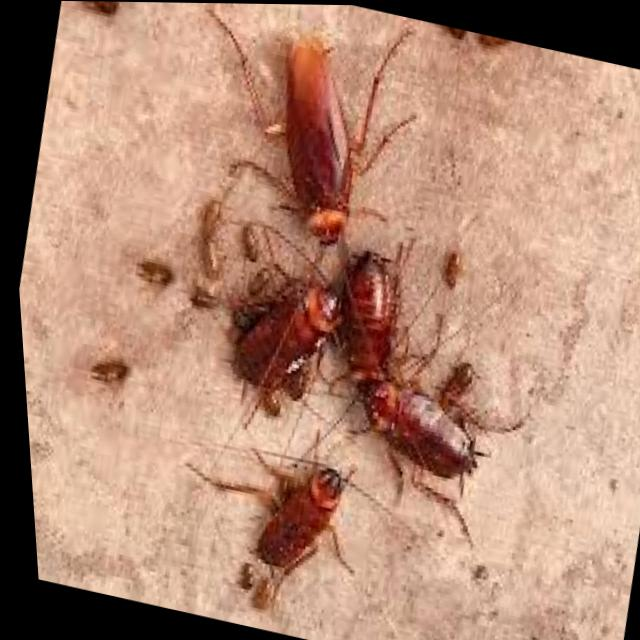Cockroach: (164, 2, 457, 333), (155, 362, 400, 640), (301, 317, 537, 580), (164, 216, 361, 449), (295, 210, 446, 446)
